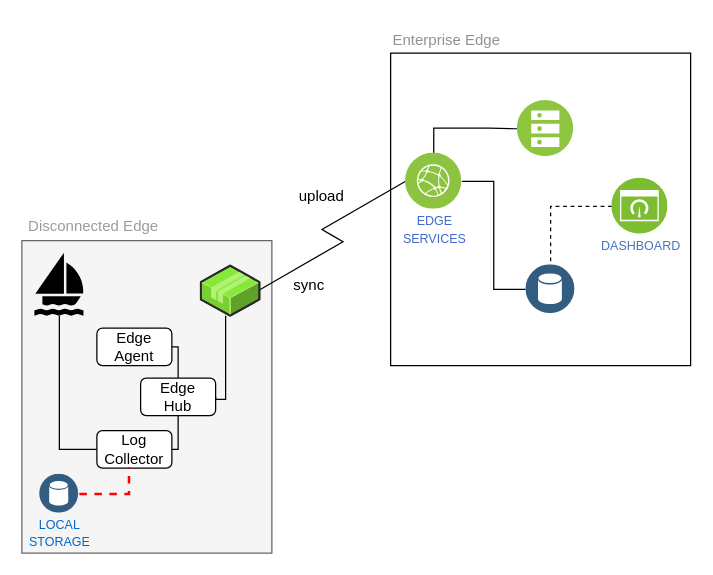
Some shapes in this 713 by 575 pixel diagram are drawn without their labels. Each missing label, with the centre of its shape:
"EDGE SERVER" belongs at point (545, 128).
"ENTERPRISE STORAGE" belongs at point (550, 288).
"MEC" belongs at point (229, 290).
